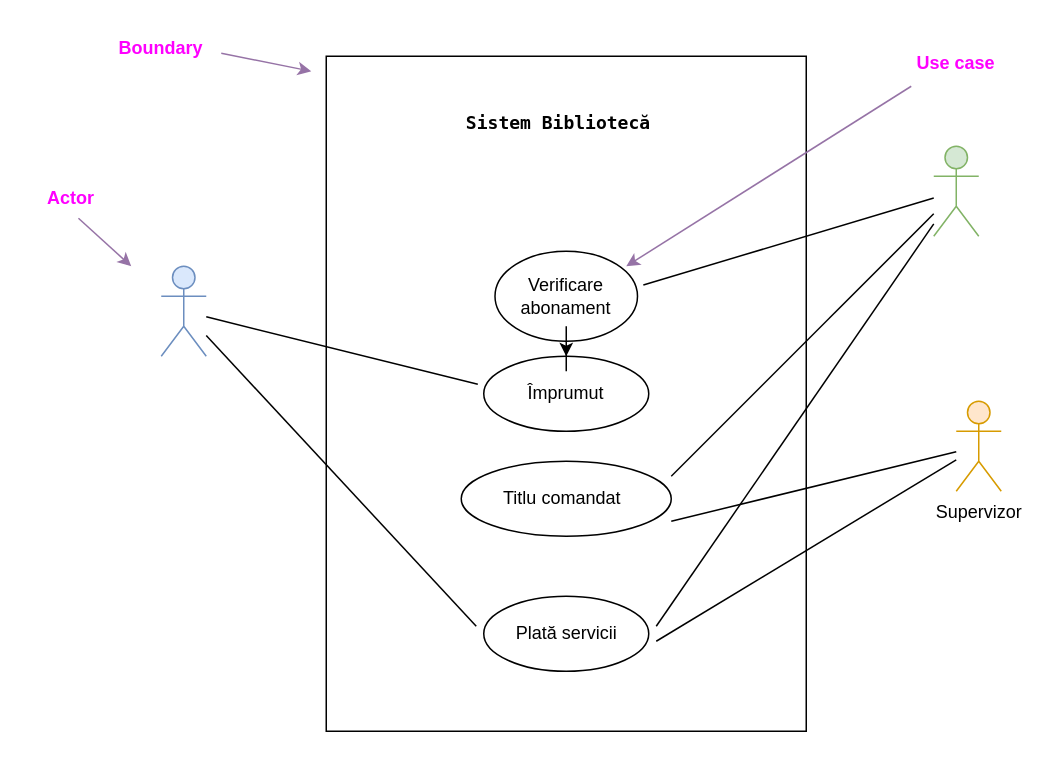
Image size: 1047x758. Some labels were removed from this diagram. Here are the shapes that lost their labels. From the top down, the box of each, then its label:
(932, 145, 979, 236): Angajat
(160, 265, 206, 356): Client
